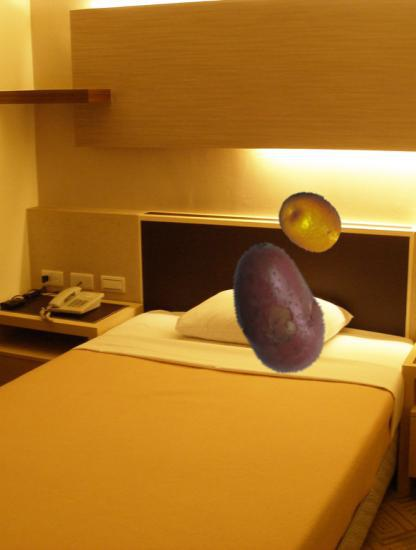Kumquats: (277, 188, 345, 256)
Potato: (208, 241, 345, 378)
